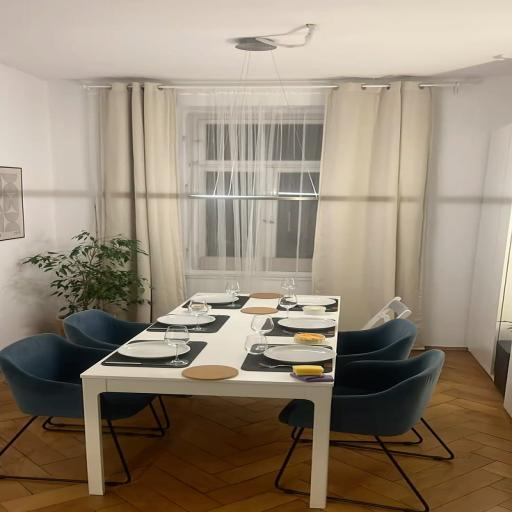bus: (275, 349, 459, 512), (0, 327, 182, 489)
stroller: (70, 286, 344, 512)
